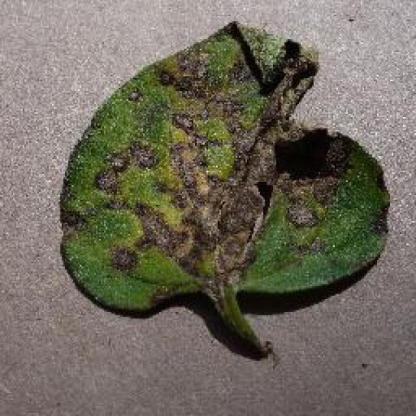Tomato_Blight: (58, 23, 389, 308)
